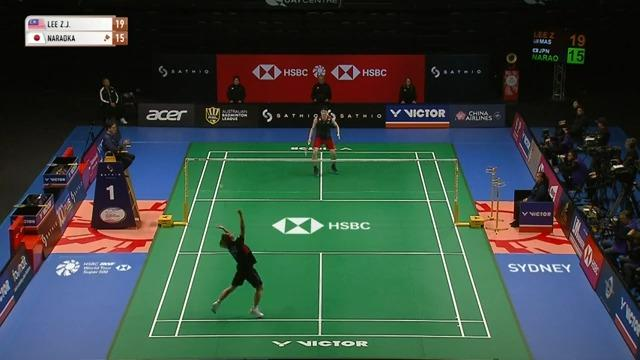Shuttlecock: (217, 180, 223, 189)
